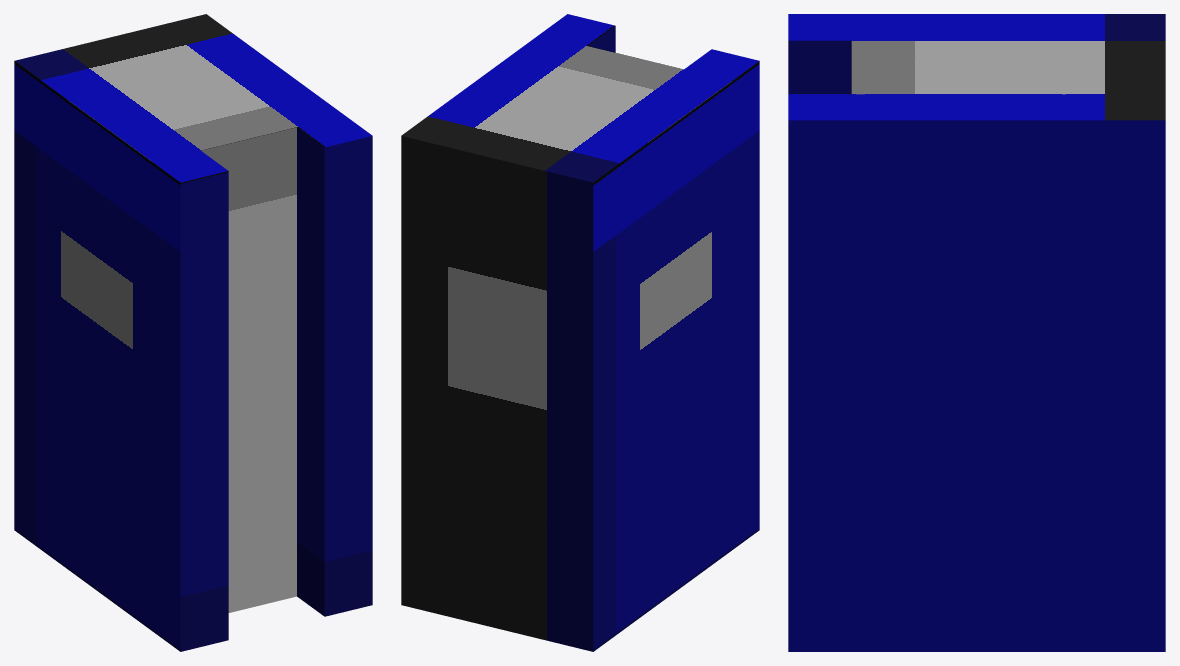
File: book_0x282_26.glb
3 views of the same model, side by side, from view 1: azimuth 30°, elevation 25°; view 2: azimuth 150°, elevation 25°; view 3: azimuth 270°, elevation 25° (orthographic). The views are drawn at different scales.
Parts seen in each view (by area): view 1: Cube.001; view 2: Cube.001; view 3: Cube.001.
Part boxes in pixels (<box>): Cube.001: <box>14,14,372,651</box>; Cube.001: <box>401,14,759,651</box>; Cube.001: <box>788,14,1165,651</box>.
Bounding box in the file's own units: 0.25 × 0.5833 × 0.375.
1 material, 1 textured.
